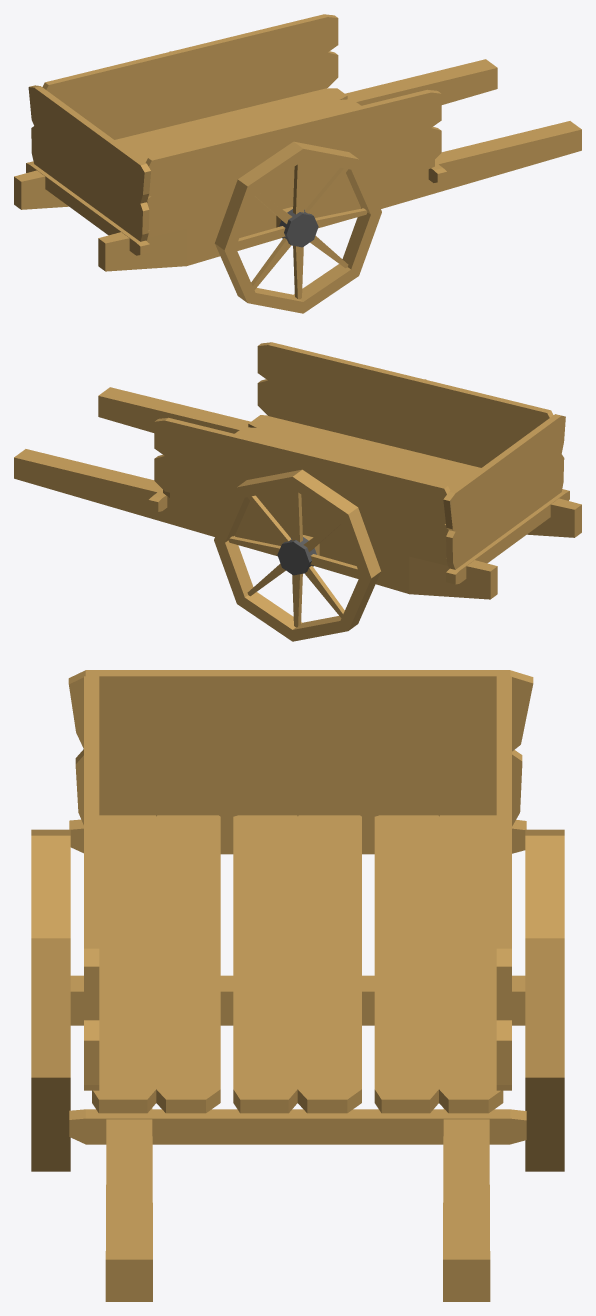
The model's file is Cart.fbx.
3 renders of one model, top to bottom at view 1: azimuth 30°, elevation 25°; view 2: azimuth 150°, elevation 25°; view 3: azimuth 270°, elevation 25°, orthographic. The views are drawn at different scales.
Parts seen in each view (by area): view 1: Cylinder.006; view 2: Cylinder.006; view 3: Cylinder.006.
Part boxes in pixels (x1,y1,x2,y2): Cylinder.006: (14,14,581,313); Cylinder.006: (14,342,581,641); Cylinder.006: (31,670,564,1301).
Bounding box in the file's own units: 254 × 90.66 × 124.
Materials: 1 (1 with a texture image).
